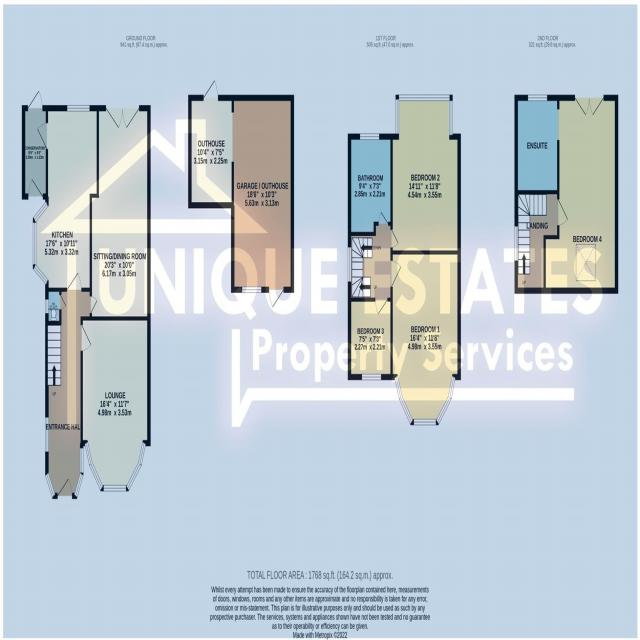DOOR: (574, 94, 604, 116), (65, 270, 82, 292), (36, 121, 48, 151), (27, 89, 43, 111), (390, 259, 402, 288), (557, 198, 569, 227), (28, 177, 43, 199), (81, 323, 92, 353), (374, 297, 388, 316), (391, 227, 400, 250), (378, 210, 389, 226), (90, 294, 98, 315)
ROOM: (543, 95, 619, 294), (89, 102, 151, 318), (390, 250, 461, 425), (33, 104, 99, 292), (390, 94, 461, 255), (348, 297, 393, 380)
WINDOW: (126, 440, 147, 492), (84, 440, 104, 491), (394, 375, 414, 426), (436, 374, 456, 425), (73, 447, 84, 499), (399, 94, 451, 102), (32, 200, 49, 222), (203, 78, 219, 101), (268, 286, 284, 308), (33, 264, 49, 285), (45, 471, 56, 499), (32, 220, 37, 268), (102, 484, 127, 492), (44, 415, 49, 453), (514, 225, 519, 262), (67, 104, 90, 112), (448, 100, 453, 136), (241, 286, 262, 294), (361, 374, 382, 382), (413, 418, 437, 425), (527, 94, 548, 102), (395, 98, 399, 135), (359, 133, 380, 140), (348, 245, 351, 283)
